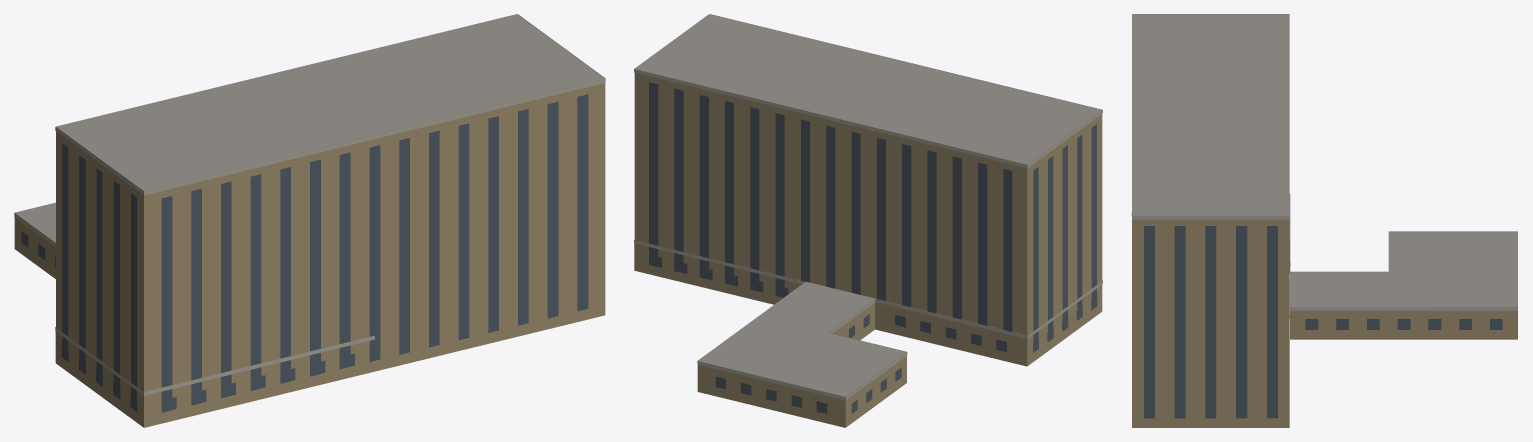
File: parkview-towers.glb
The picture shows the model from 3 angles, left to right: view 1: azimuth 30°, elevation 25°; view 2: azimuth 150°, elevation 25°; view 3: azimuth 270°, elevation 25°; orthographic projection. The views are drawn at different scales.
Visible parts, largest first — view 1: parkview_towers; view 2: parkview_towers; view 3: parkview_towers.
Part boxes in pixels (bbox=[...]): parkview_towers: bbox=[14, 14, 605, 427]; parkview_towers: bbox=[634, 14, 1102, 427]; parkview_towers: bbox=[1131, 14, 1517, 427].
Bounding box in the file's own units: 56.02 × 27.4 × 45.36.
